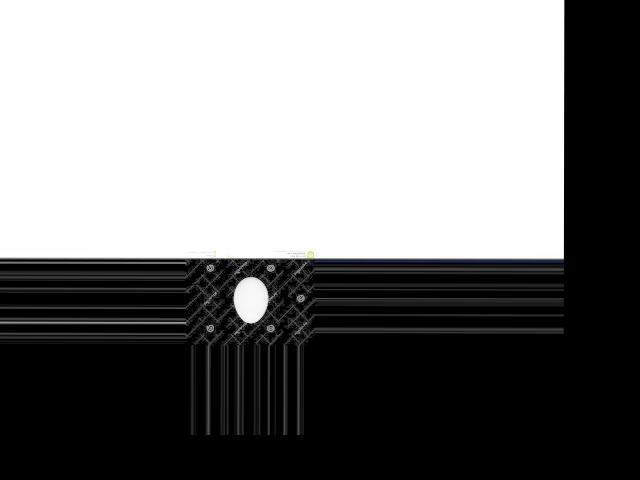egg: (232, 276, 267, 322)
